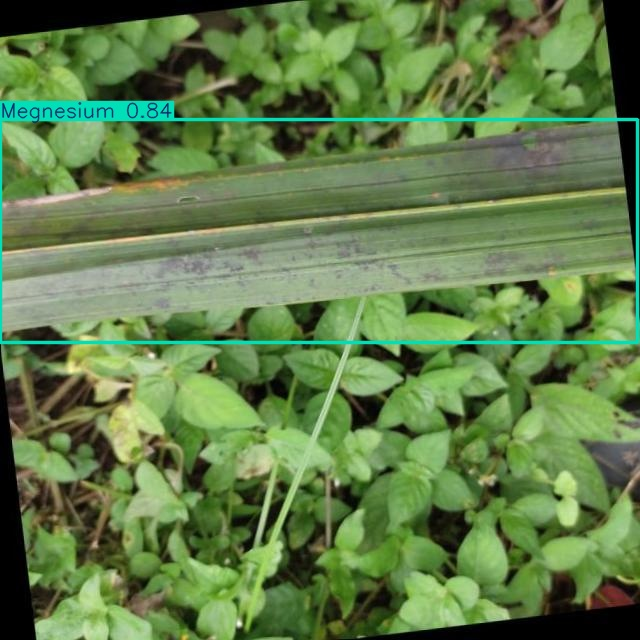Megnesium: (1, 119, 637, 343)
